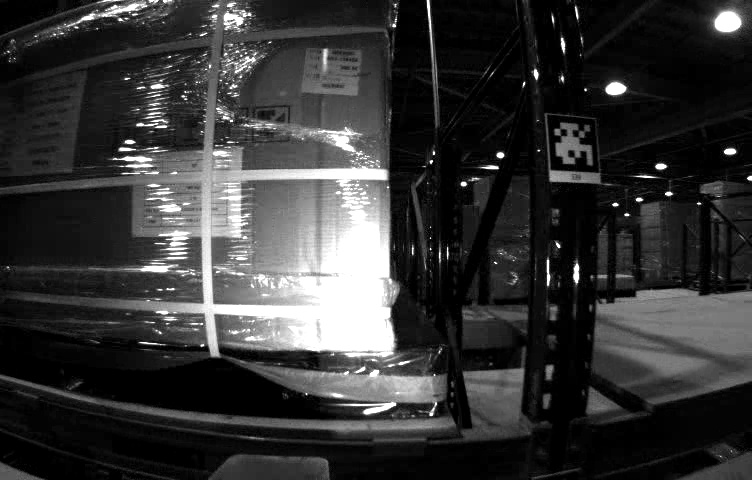True Barcode: (304, 48, 359, 94)
